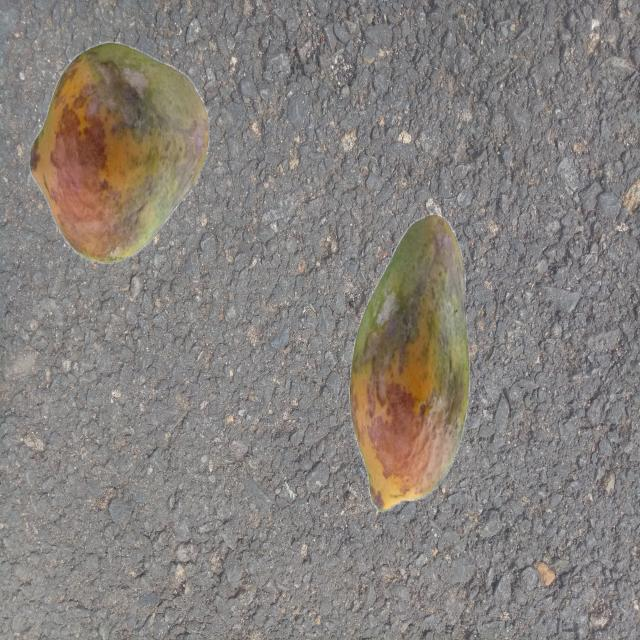Pepaya rippen: (24, 55, 217, 269), (335, 214, 477, 503)
